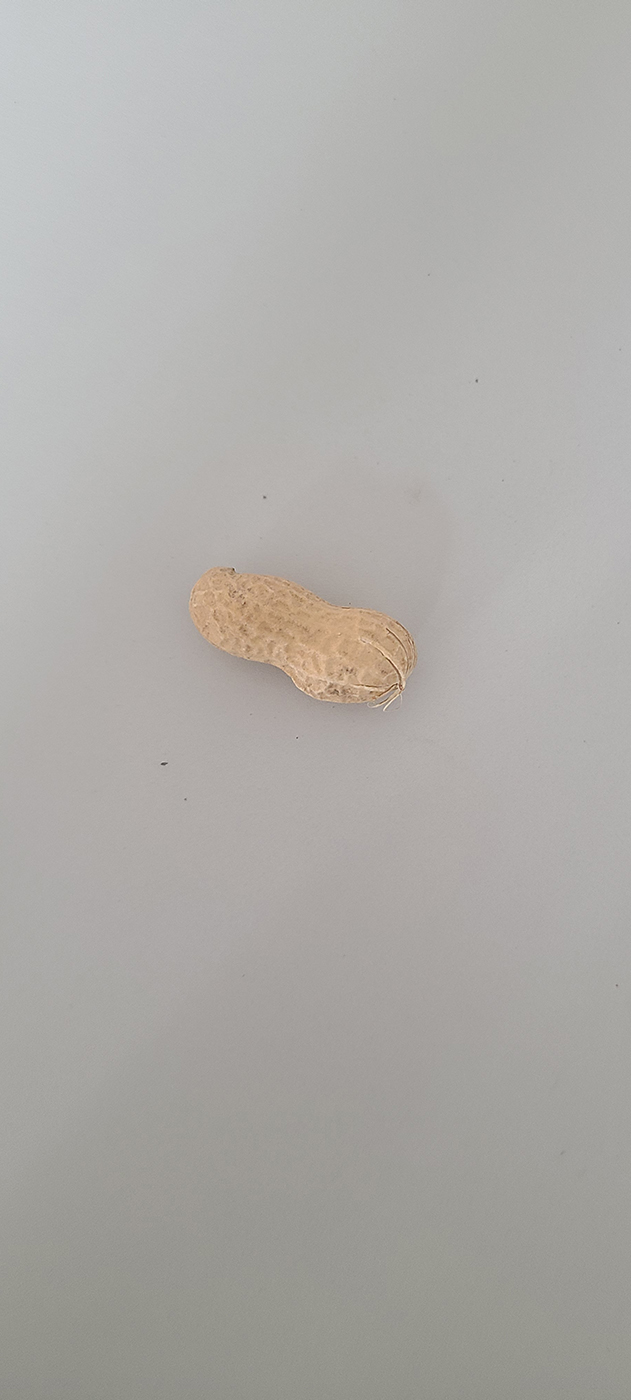h: (187, 564, 415, 704)
